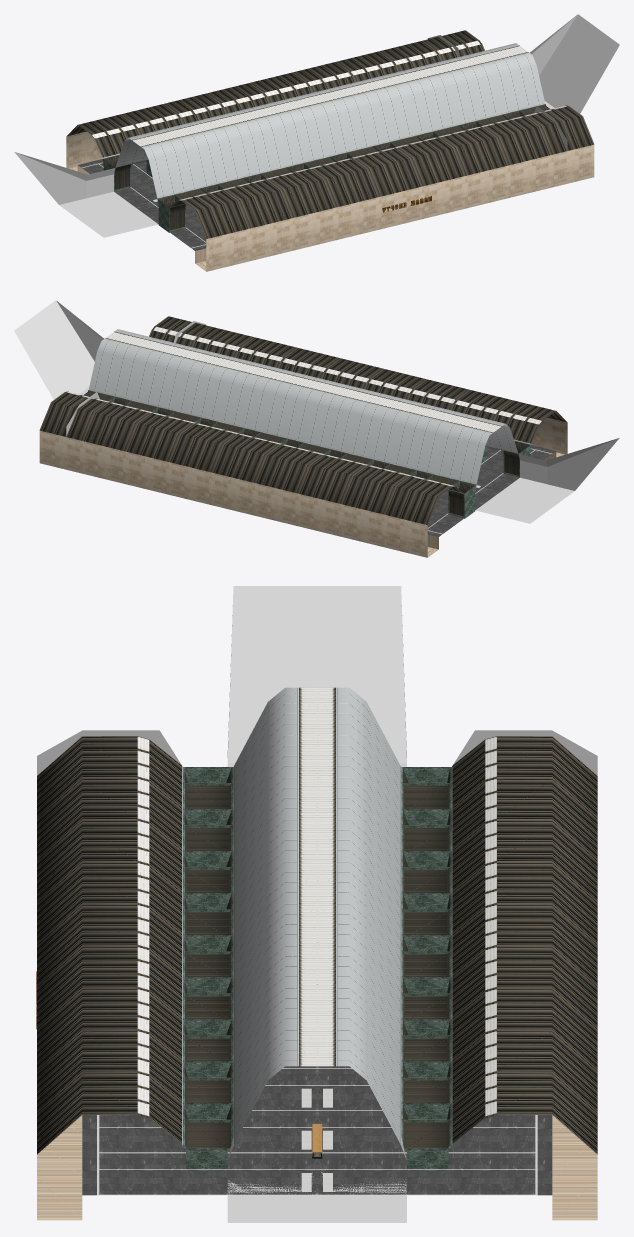
File: level2.glb
The picture shows the model from 3 angles, top to bottom: view 1: azimuth 30°, elevation 25°; view 2: azimuth 150°, elevation 25°; view 3: azimuth 270°, elevation 25°; orthographic projection. The views are drawn at different scales.
Visible parts, largest first — view 1: stairs, walls; view 2: stairs, walls; view 3: stairs, walls.
Boxes of the visible parts, x1=… form: stairs: x1=66, y1=30, x2=594, y2=271; walls: x1=14, y1=14, x2=619, y2=237; stairs: x1=39, y1=316, x2=567, y2=557; walls: x1=14, y1=300, x2=619, y2=523; stairs: x1=37, y1=687, x2=597, y2=1220; walls: x1=37, y1=586, x2=597, y2=1222.
Bounding box in the file's own units: 82.76 × 10.97 × 35.68.
9 materials, 9 textured.
